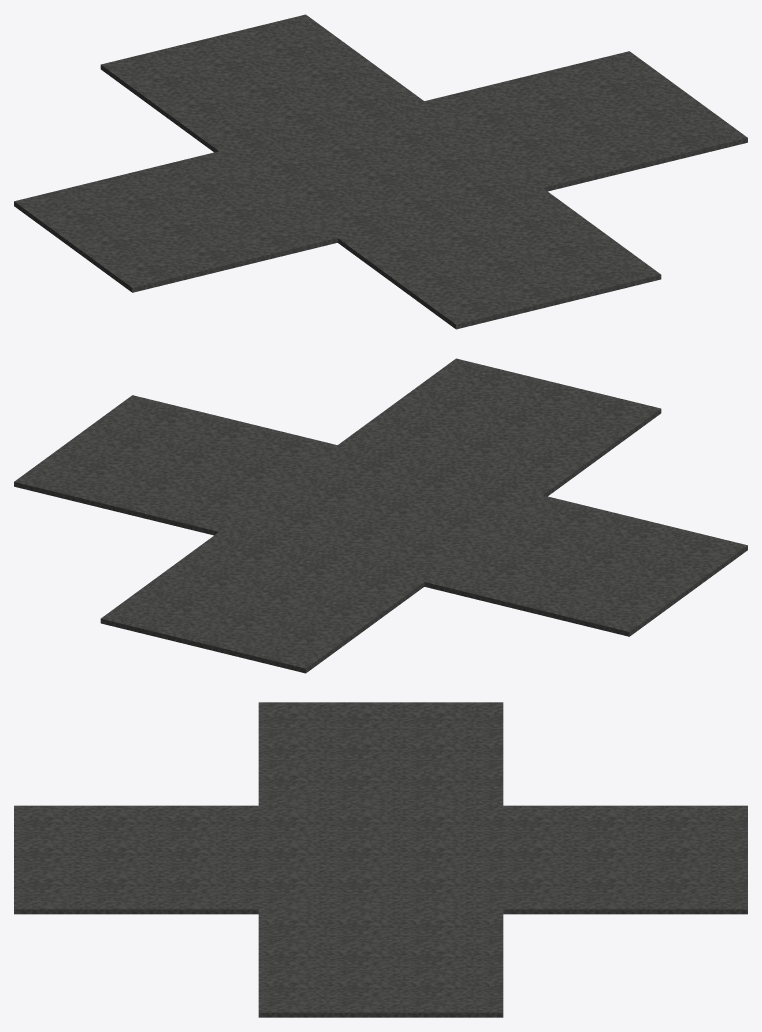
The model's file is PZ_FourWay_Asphalt_Panels.glb.
3 renders of one model, top to bottom at view 1: azimuth 30°, elevation 25°; view 2: azimuth 150°, elevation 25°; view 3: azimuth 270°, elevation 25°, orthographic. The views are drawn at different scales.
Parts seen in each view (by area): view 1: PZ_ROAD_South_8x8m, PZ_ROAD_West_8x8m, PZ_ROAD_East_8x8m, PZ_ROAD_North_8x8m, PZ_ROAD_Center_8x8m; view 2: PZ_ROAD_North_8x8m, PZ_ROAD_West_8x8m, PZ_ROAD_East_8x8m, PZ_ROAD_South_8x8m, PZ_ROAD_Center_8x8m; view 3: PZ_ROAD_North_8x8m, PZ_ROAD_South_8x8m, PZ_ROAD_East_8x8m, PZ_ROAD_Center_8x8m, PZ_ROAD_West_8x8m.
Boxes of the visible parts, x1=… form: PZ_ROAD_South_8x8m: x1=337, y1=188, x2=661, y2=329; PZ_ROAD_West_8x8m: x1=14, y1=151, x2=337, y2=292; PZ_ROAD_East_8x8m: x1=424, y1=51, x2=747, y2=191; PZ_ROAD_North_8x8m: x1=100, y1=14, x2=423, y2=152; PZ_ROAD_Center_8x8m: x1=219, y1=101, x2=542, y2=237; PZ_ROAD_North_8x8m: x1=100, y1=532, x2=424, y2=673; PZ_ROAD_West_8x8m: x1=424, y1=495, x2=747, y2=636; PZ_ROAD_East_8x8m: x1=14, y1=395, x2=337, y2=535; PZ_ROAD_South_8x8m: x1=338, y1=358, x2=661, y2=496; PZ_ROAD_Center_8x8m: x1=219, y1=445, x2=542, y2=581; PZ_ROAD_North_8x8m: x1=503, y1=805, x2=747, y2=914; PZ_ROAD_South_8x8m: x1=14, y1=805, x2=258, y2=914; PZ_ROAD_East_8x8m: x1=258, y1=909, x2=503, y2=1017; PZ_ROAD_Center_8x8m: x1=258, y1=805, x2=503, y2=909; PZ_ROAD_West_8x8m: x1=258, y1=702, x2=503, y2=805.
Size of the model in its own units: 24 by 0.18 by 24.
1 material, 1 textured.
